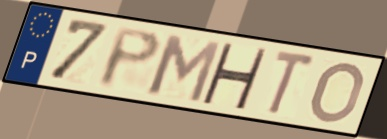7: (49, 16, 111, 83)
H: (198, 41, 270, 113)
M: (145, 31, 225, 106)
O: (307, 60, 367, 125)
P: (96, 25, 164, 92)
T: (264, 47, 319, 118)
